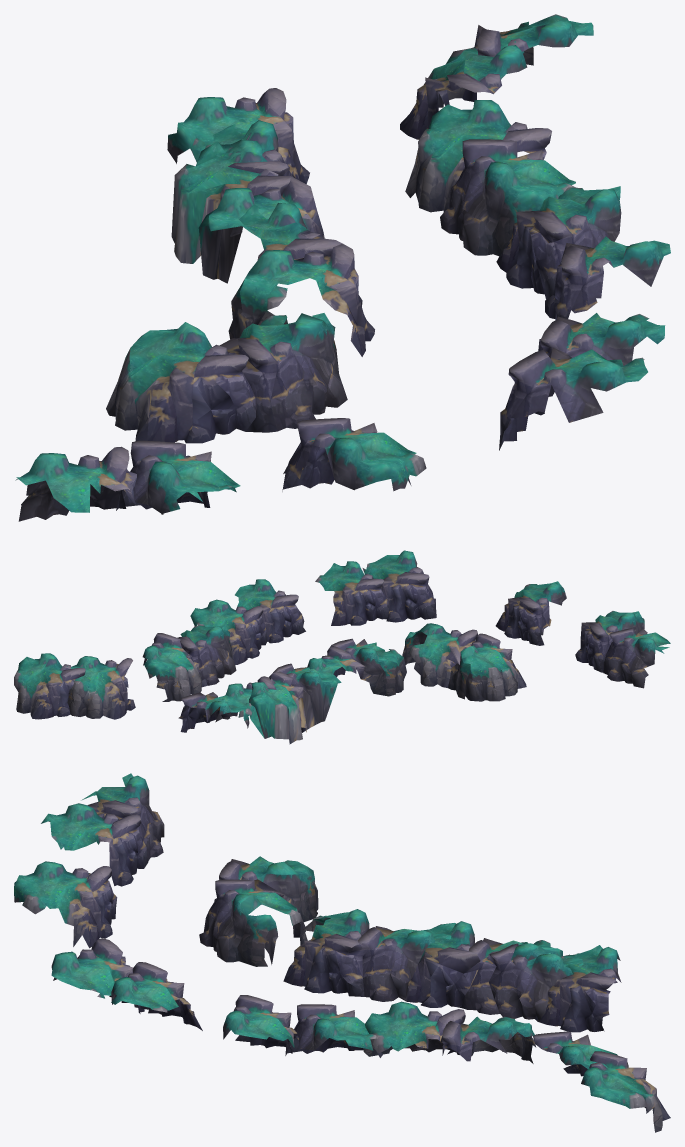
The model's file is yanshi17_1.FBX.
3 renders of one model, top to bottom at view 1: azimuth 30°, elevation 25°; view 2: azimuth 150°, elevation 25°; view 3: azimuth 270°, elevation 25°, orthographic. The views are drawn at different scales.
Parts seen in each view (by area): view 1: yanshi17_1; view 2: yanshi17_1; view 3: yanshi17_1.
Boxes of the visible parts, left/top/right/bottom form: yanshi17_1: left=15, top=14, right=670, bottom=521; yanshi17_1: left=14, top=550, right=670, bottom=744; yanshi17_1: left=14, top=773, right=670, bottom=1132.
Bounding box in the file's own units: 9306 × 1099 × 8059.
